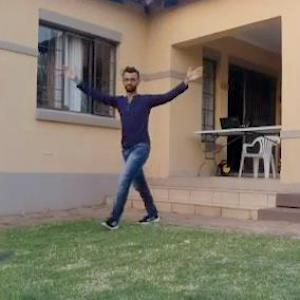takeoff: (66, 64, 212, 230)
